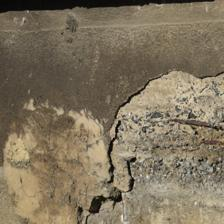Crack: (15, 8, 126, 120), (82, 36, 148, 102), (63, 54, 123, 79)
